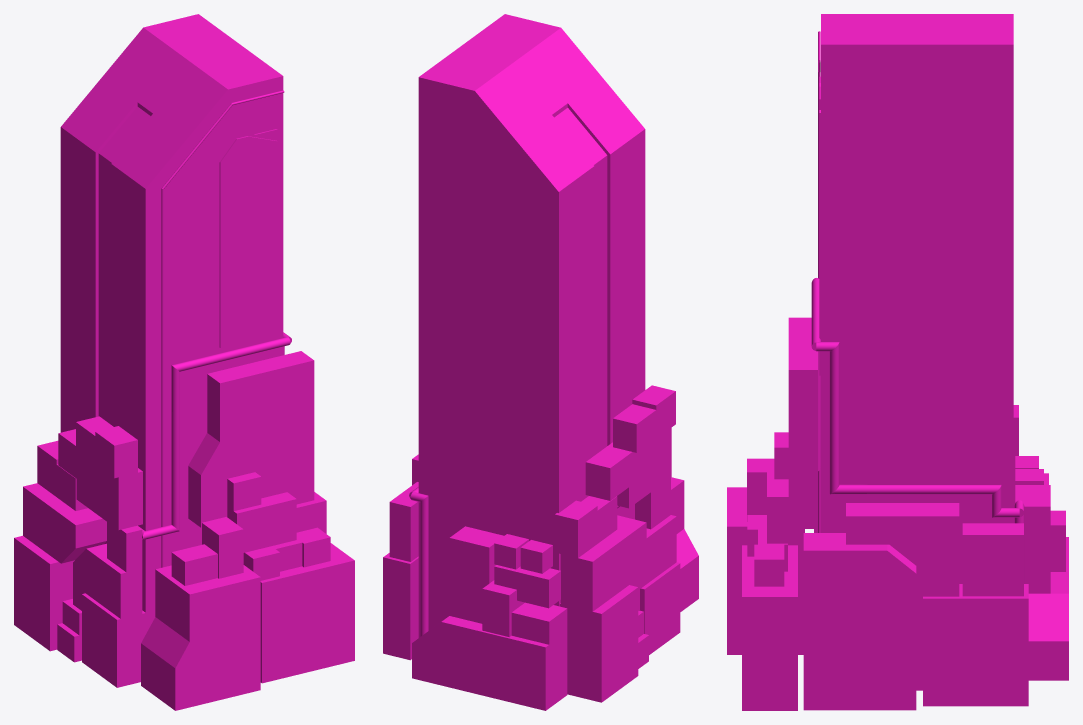
The picture shows the model from 3 angles, left to right: view 1: azimuth 30°, elevation 25°; view 2: azimuth 150°, elevation 25°; view 3: azimuth 270°, elevation 25°; orthographic projection. The views are drawn at different scales.
Parts seen in each view (by area): view 1: Mesh_40, Mesh_51, Mesh_66, Mesh_60, Mesh_43, Mesh_39, Mesh_22, Mesh_21, Mesh_14, Mesh_26, Mesh_62, Mesh_24 (+23 smaller); view 2: Mesh_40, Mesh_66, Mesh_9, Mesh_22, Mesh_26, Mesh_14, Mesh_62, Mesh_7, Mesh_38, Mesh_21, Mesh_20, Mesh_4 (+17 smaller); view 3: Mesh_40, Mesh_37, Mesh_38, Mesh_39, Mesh_35, Mesh_51, Mesh_31, Mesh_30, Mesh_43, Mesh_7, Mesh_9, Mesh_8 (+8 smaller).
Part boxes in pixels (x1,y1,x2,y2): Mesh_40: (60, 14, 283, 633); Mesh_51: (188, 351, 314, 527); Mesh_66: (61, 27, 227, 188); Mesh_60: (219, 136, 277, 362); Mesh_43: (141, 565, 260, 710); Mesh_39: (260, 543, 354, 683); Mesh_22: (14, 535, 74, 651); Mesh_21: (82, 593, 145, 687); Mesh_14: (58, 429, 142, 529); Mesh_26: (23, 483, 106, 563); Mesh_62: (98, 153, 111, 544); Mesh_24: (73, 543, 142, 618); Mesh_40: (418, 14, 645, 637); Mesh_66: (475, 28, 644, 191); Mesh_9: (412, 616, 548, 710); Mesh_22: (559, 585, 638, 702); Mesh_26: (560, 515, 646, 611); Mesh_14: (585, 428, 671, 507); Mesh_62: (594, 155, 607, 455); Mesh_7: (449, 526, 503, 623); Mesh_38: (383, 553, 418, 660); Mesh_21: (639, 562, 680, 654); Mesh_20: (554, 500, 597, 557); Mesh_4: (494, 565, 560, 608); Mesh_40: (821, 14, 1013, 690); Mesh_37: (803, 533, 916, 710); Mesh_38: (923, 584, 1028, 706); Mesh_39: (742, 545, 797, 710); Mesh_35: (846, 503, 959, 596); Mesh_51: (788, 317, 817, 528); Mesh_31: (962, 523, 1023, 596); Mesh_30: (816, 342, 1019, 517); Mesh_43: (727, 487, 804, 654); Mesh_7: (1015, 485, 1050, 593); Mesh_9: (1028, 537, 1068, 680); Mesh_8: (1028, 593, 1068, 641).
Size of the model in its own units: 30.11 by 74.71 by 35.83.
